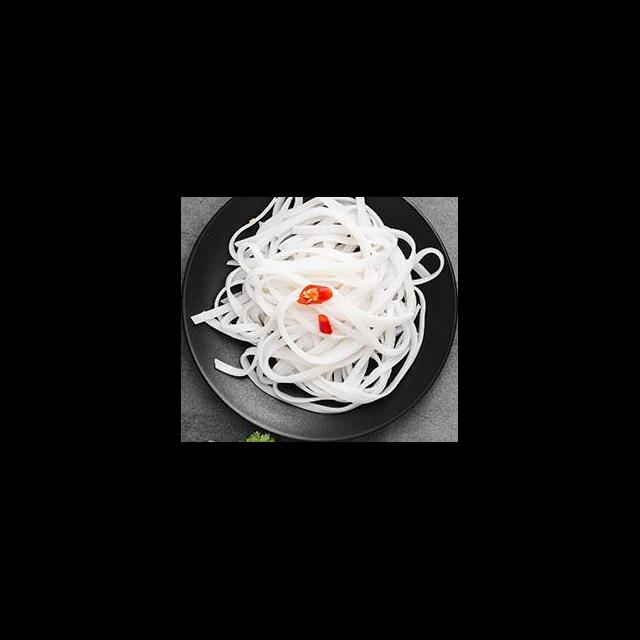banh pho: (188, 198, 446, 426)
